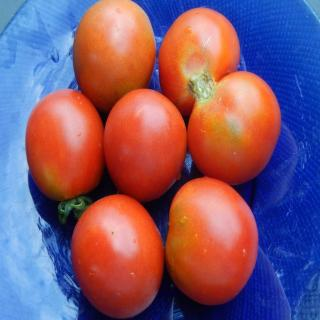tomato: (165, 174, 260, 306), (69, 193, 164, 319), (25, 88, 106, 221), (188, 70, 279, 187), (104, 90, 188, 204), (156, 6, 243, 116), (72, 0, 157, 112)
